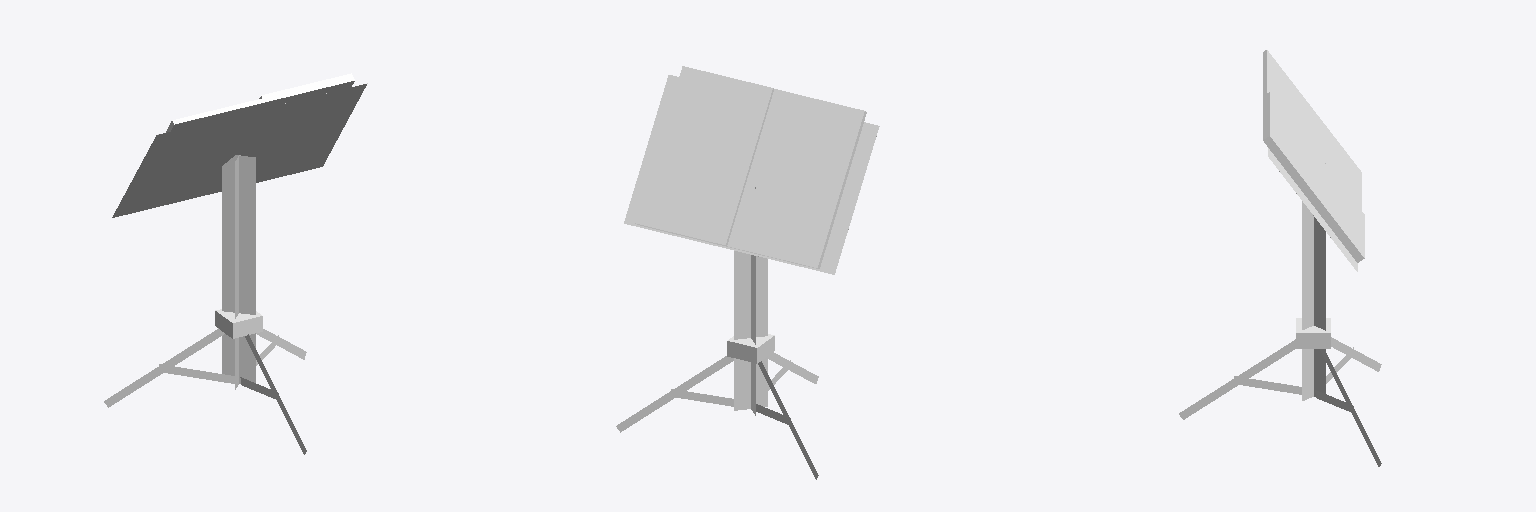
Rendered from mt_music_stand_single.obj.
3 renders of one model, left to right at view 1: azimuth 30°, elevation 25°; view 2: azimuth 150°, elevation 25°; view 3: azimuth 270°, elevation 25°, orthographic.
Visible parts, largest first — view 1: cube; view 2: cube; view 3: cube.
Boxes of the visible parts, x1=… form: cube: x1=104, y1=73, x2=367, y2=454; cube: x1=616, y1=66, x2=879, y2=479; cube: x1=1179, y1=50, x2=1381, y2=466.
Size of the model in its own units: 0.875 by 1.3 by 0.7301.